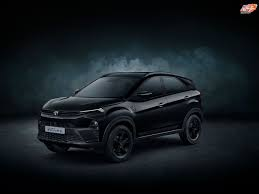Tata Nexon: (35, 70, 204, 164)
